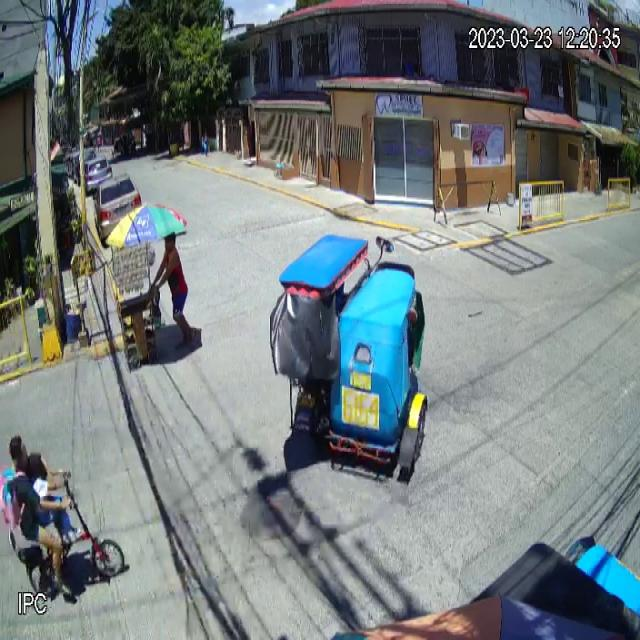Tricycle: (270, 232, 428, 474)
